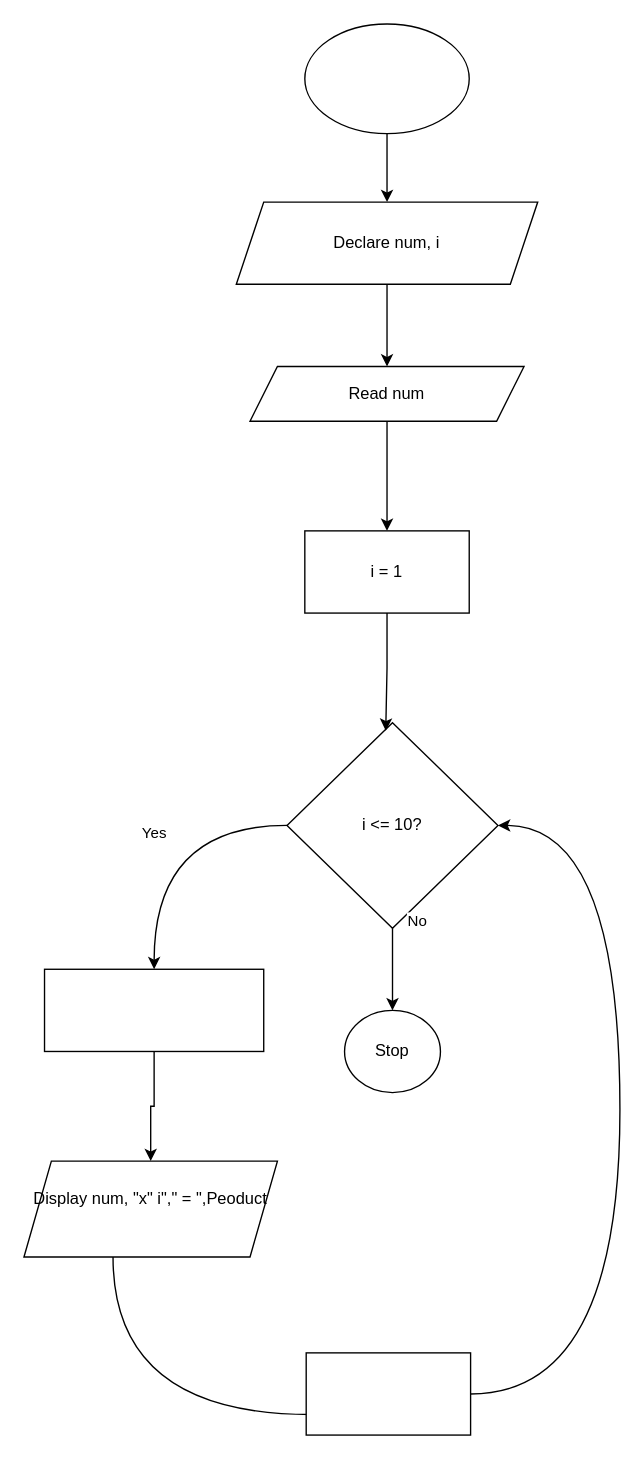
This 644x1459 diagram has some shape labels left out. Each missing label, with the box of its shape:
i = i +1: (305, 1352, 471, 1435)
Product = num * 1: (43, 968, 264, 1051)
Start: (303, 23, 469, 134)
